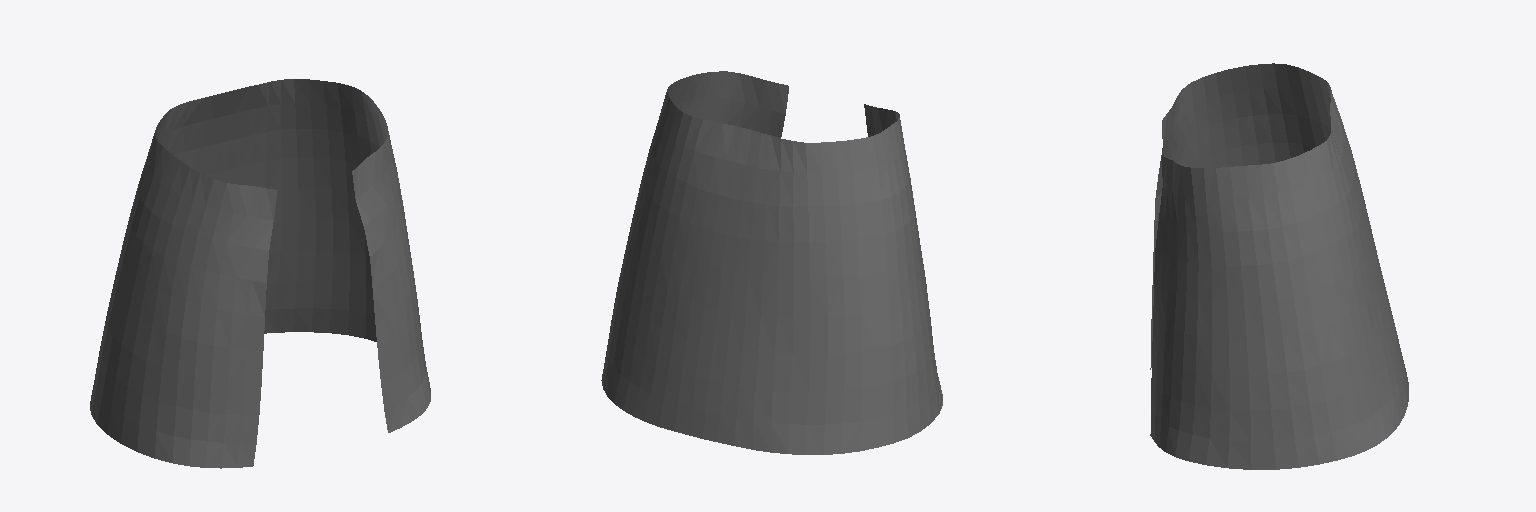
The model's file is LowPoly_Guarda_SaiaDeMetal.obj.
3 renders of one model, left to right at view 1: azimuth 30°, elevation 25°; view 2: azimuth 150°, elevation 25°; view 3: azimuth 270°, elevation 25°, orthographic.
Parts seen in each view (by area): view 1: LowPoly_Guarda_SaiaDeMetal; view 2: LowPoly_Guarda_SaiaDeMetal; view 3: LowPoly_Guarda_SaiaDeMetal.
Part boxes in pixels (bbox=[...]): LowPoly_Guarda_SaiaDeMetal: bbox=[90, 79, 430, 468]; LowPoly_Guarda_SaiaDeMetal: bbox=[601, 71, 942, 454]; LowPoly_Guarda_SaiaDeMetal: bbox=[1150, 63, 1408, 469].
Size of the model in its own units: 39.39 by 36.6 by 29.29.